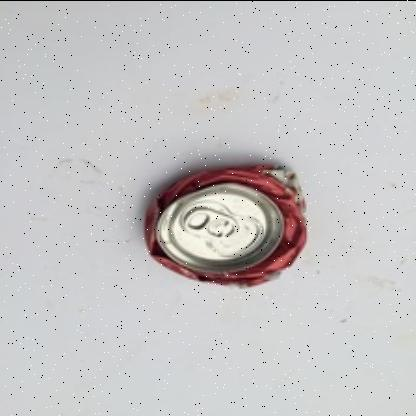Can: (141, 160, 310, 288)
